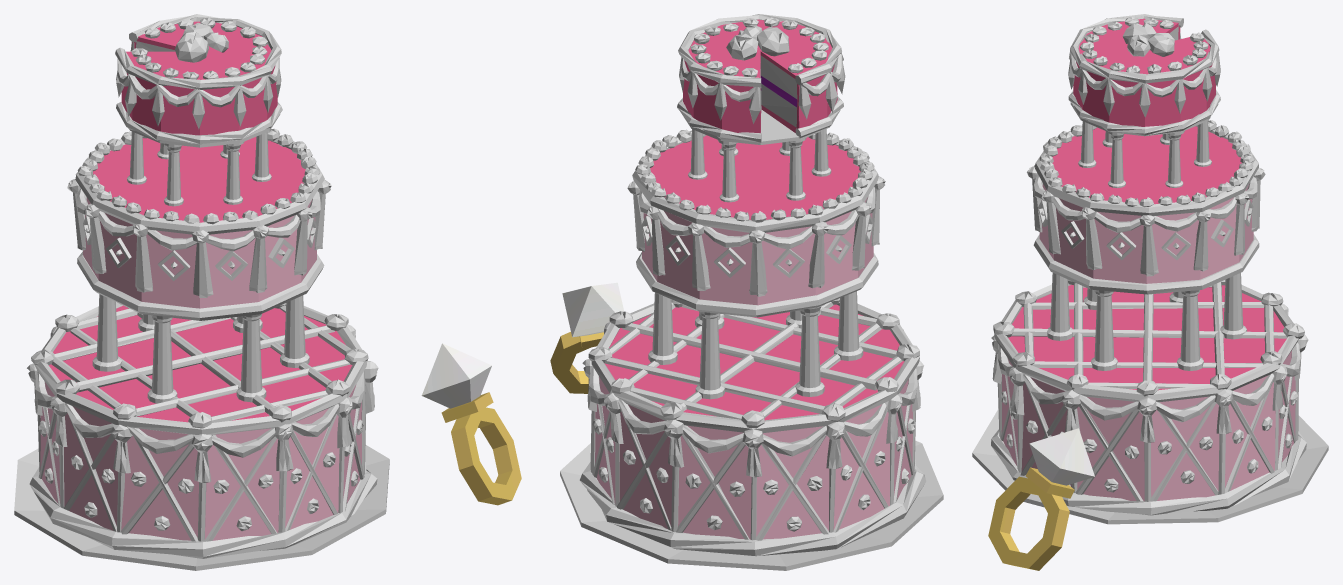
The model's file is weddingHouse.glb.
3 views of the same model, side by side, from view 1: azimuth 30°, elevation 25°; view 2: azimuth 150°, elevation 25°; view 3: azimuth 270°, elevation 25° (orthographic). The views are drawn at different scales.
Parts seen in each view (by area): view 1: group554907474, Cube.021_Cube.038; view 2: group554907474, Cube.021_Cube.038; view 3: group554907474, Cube.021_Cube.038.
Boxes of the visible parts, x1,y1,x2,y2 form: group554907474: (14, 14, 389, 570); Cube.021_Cube.038: (421, 343, 521, 505); group554907474: (560, 14, 943, 570); Cube.021_Cube.038: (550, 282, 624, 393); group554907474: (972, 14, 1328, 524); Cube.021_Cube.038: (988, 428, 1094, 570).
Size of the model in its own units: 5.44 by 5.9 by 4.35.
5 materials, 1 textured.
